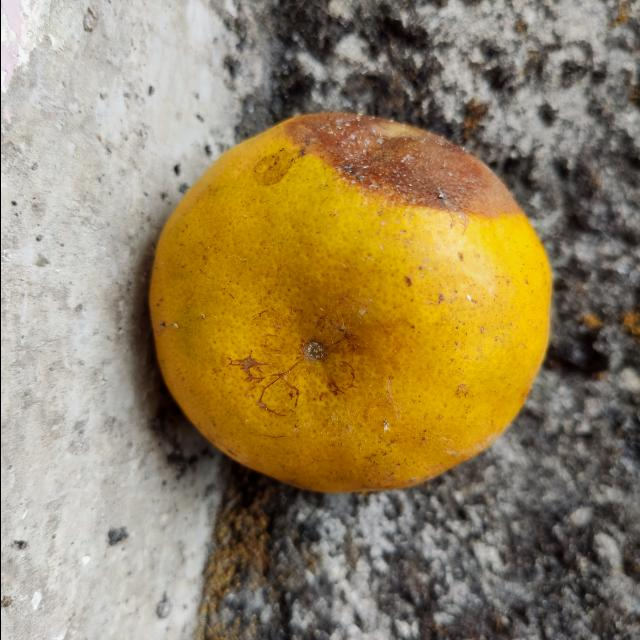orange: (148, 109, 554, 491)
